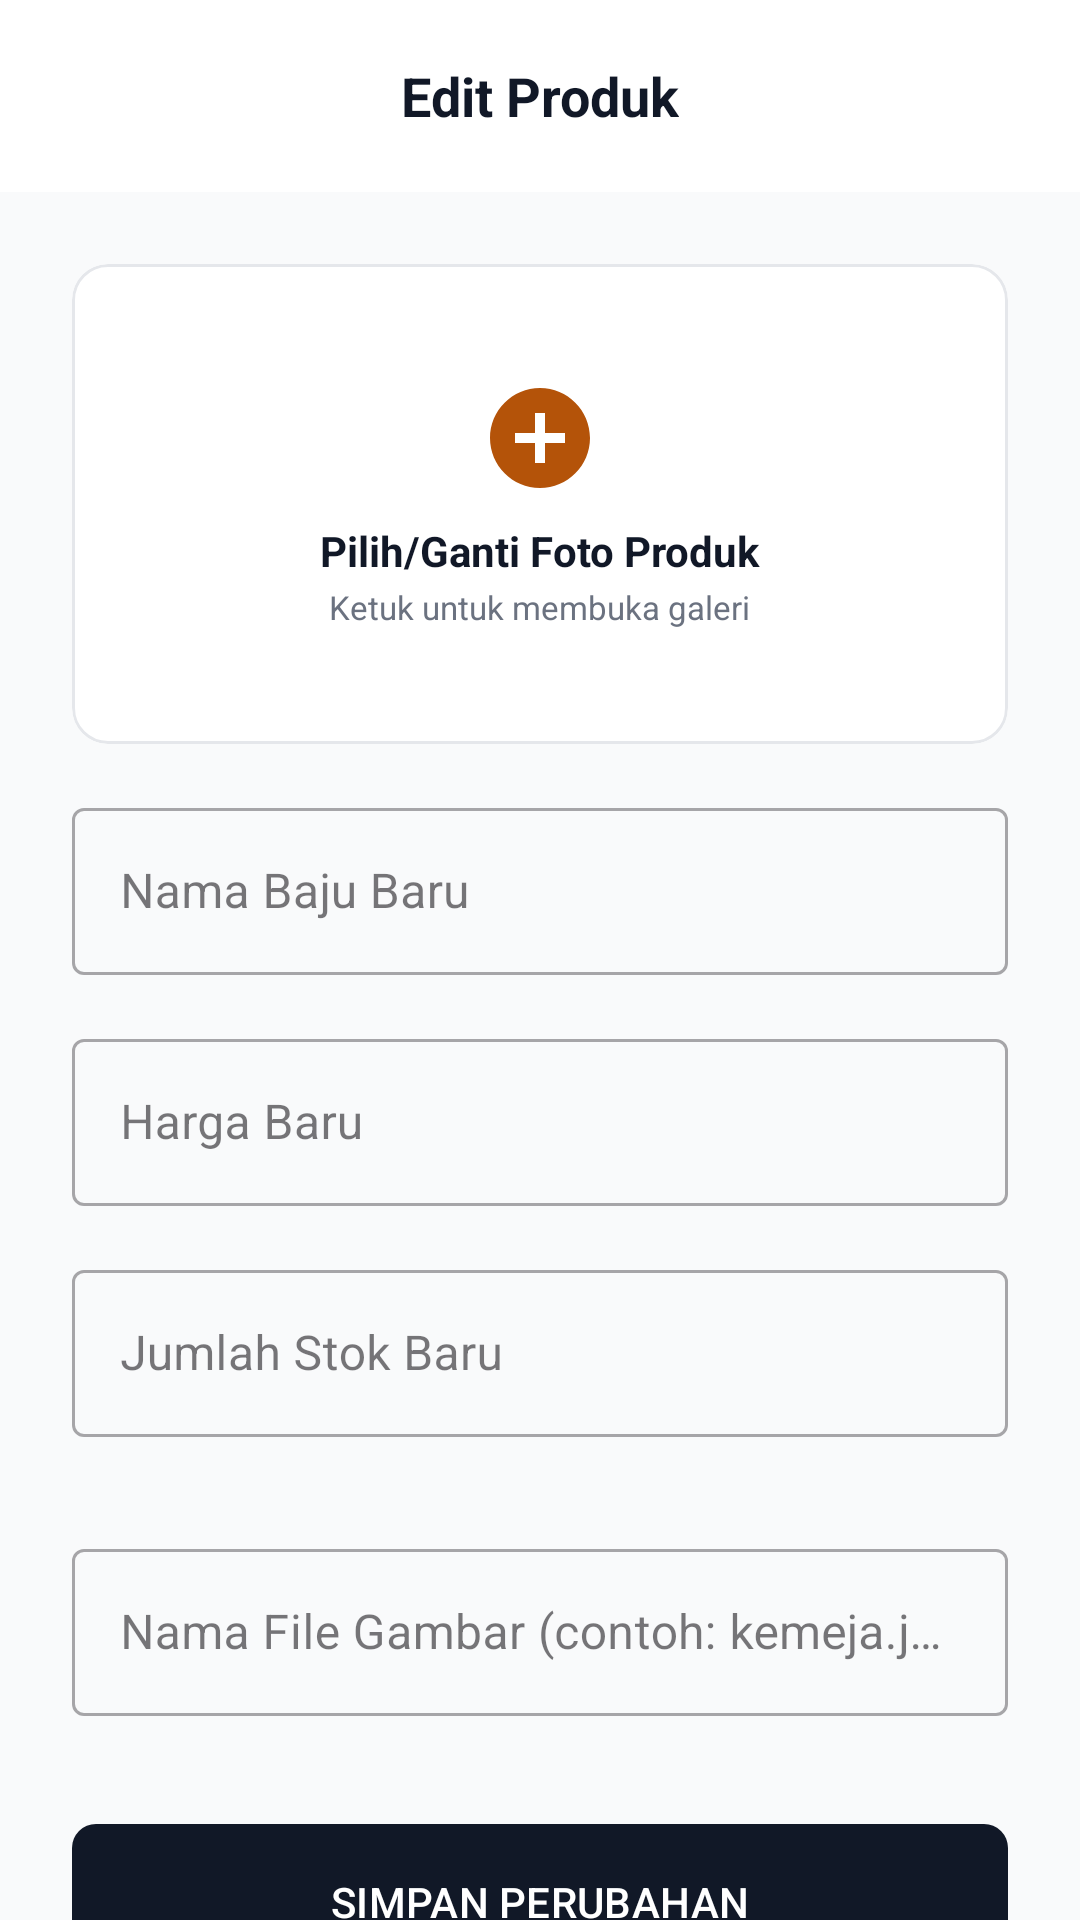

Locate icon controls on the screen. Image size 1080px×1920px, boxes as BBox(x1, y1, x2, y2).
add circle: BBox(490, 388, 590, 488)
